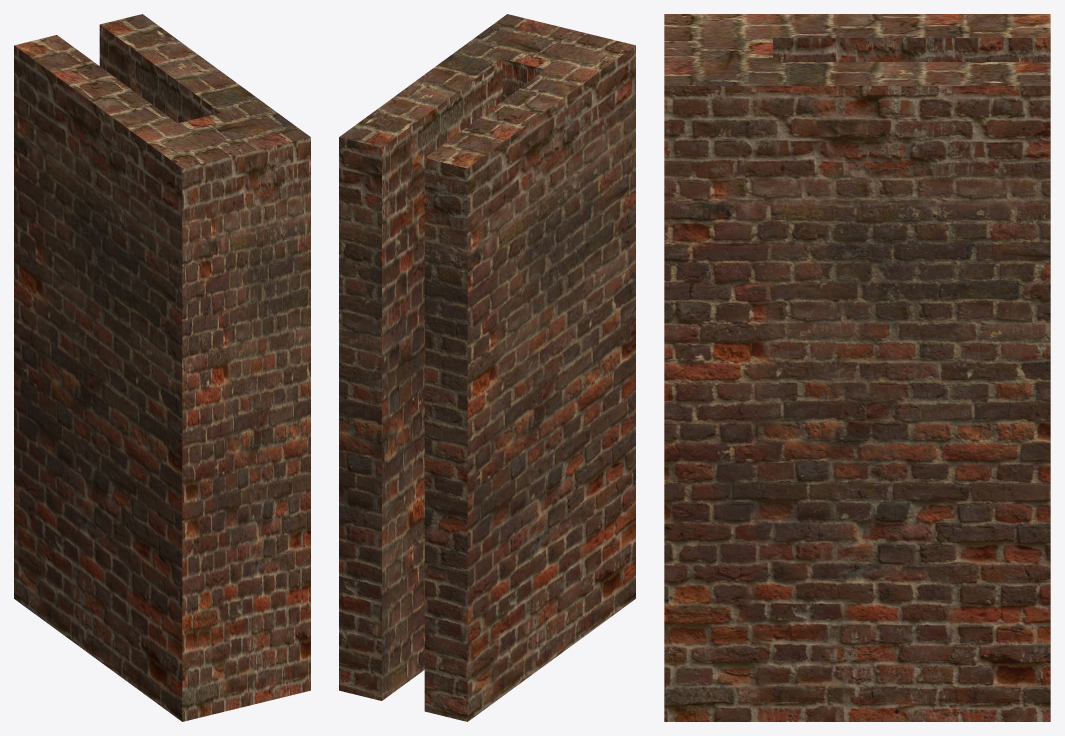
Rendered from DianaTarget.fbx.
3 views of the same model, side by side, from view 1: azimuth 30°, elevation 25°; view 2: azimuth 150°, elevation 25°; view 3: azimuth 270°, elevation 25° (orthographic). The views are drawn at different scales.
Visible parts, largest first — view 1: SpawnerDianes; view 2: SpawnerDianes; view 3: SpawnerDianes.
Part boxes in pixels (bbox=[...]): SpawnerDianes: bbox=[14, 14, 310, 721]; SpawnerDianes: bbox=[339, 14, 635, 721]; SpawnerDianes: bbox=[664, 14, 1050, 721].
Size of the model in its own units: 145 by 597 by 329.
